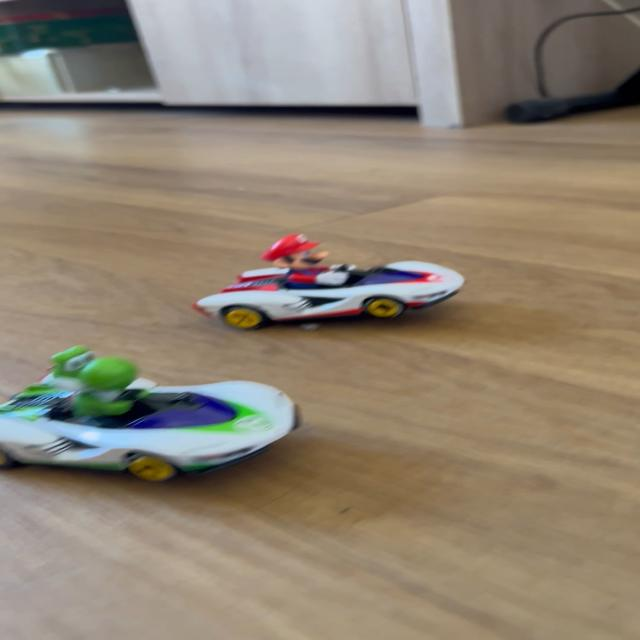mario: (186, 232, 480, 332)
yoshi: (0, 344, 312, 488)
